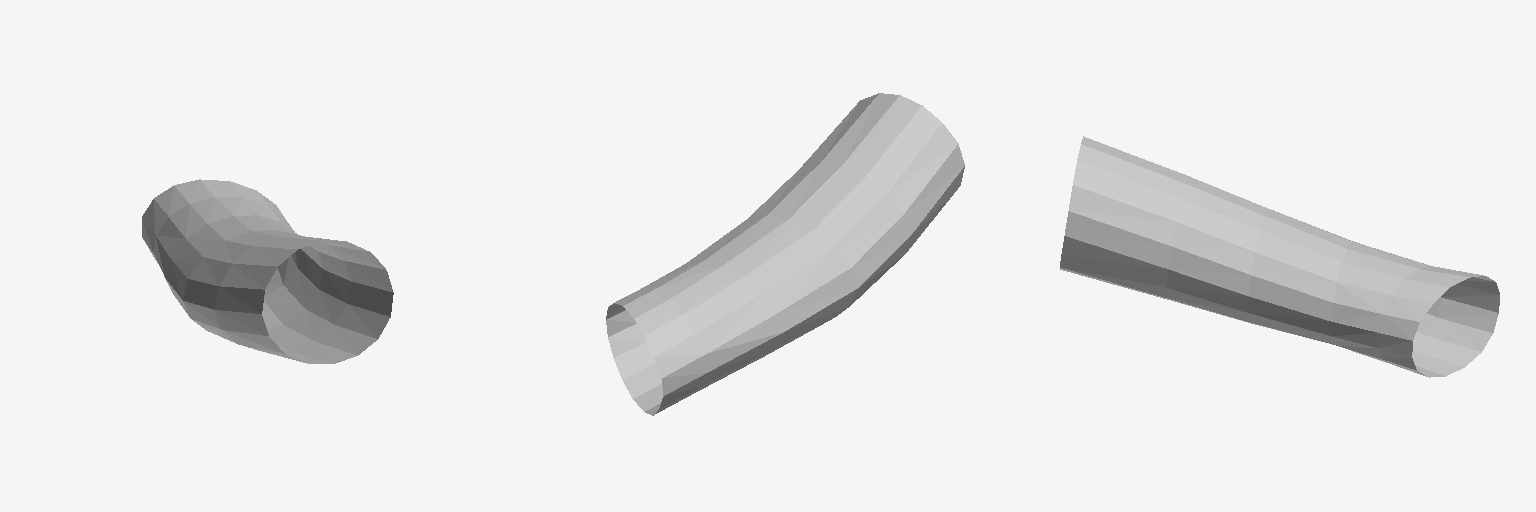
The model's file is esophagus.upper.obj.
3 views of the same model, side by side, from view 1: azimuth 30°, elevation 25°; view 2: azimuth 150°, elevation 25°; view 3: azimuth 270°, elevation 25° (orthographic).
Visible parts, largest first — view 1: esophagus.upper_esophagus.001; view 2: esophagus.upper_esophagus.001; view 3: esophagus.upper_esophagus.001.
Part boxes in pixels (left/top/right/bottom): esophagus.upper_esophagus.001: left=142, top=179, right=393, bottom=363; esophagus.upper_esophagus.001: left=606, top=93, right=964, bottom=415; esophagus.upper_esophagus.001: left=1060, top=136, right=1499, bottom=377.
Bounding box in the file's own units: 2.45 × 2.36 × 4.9.